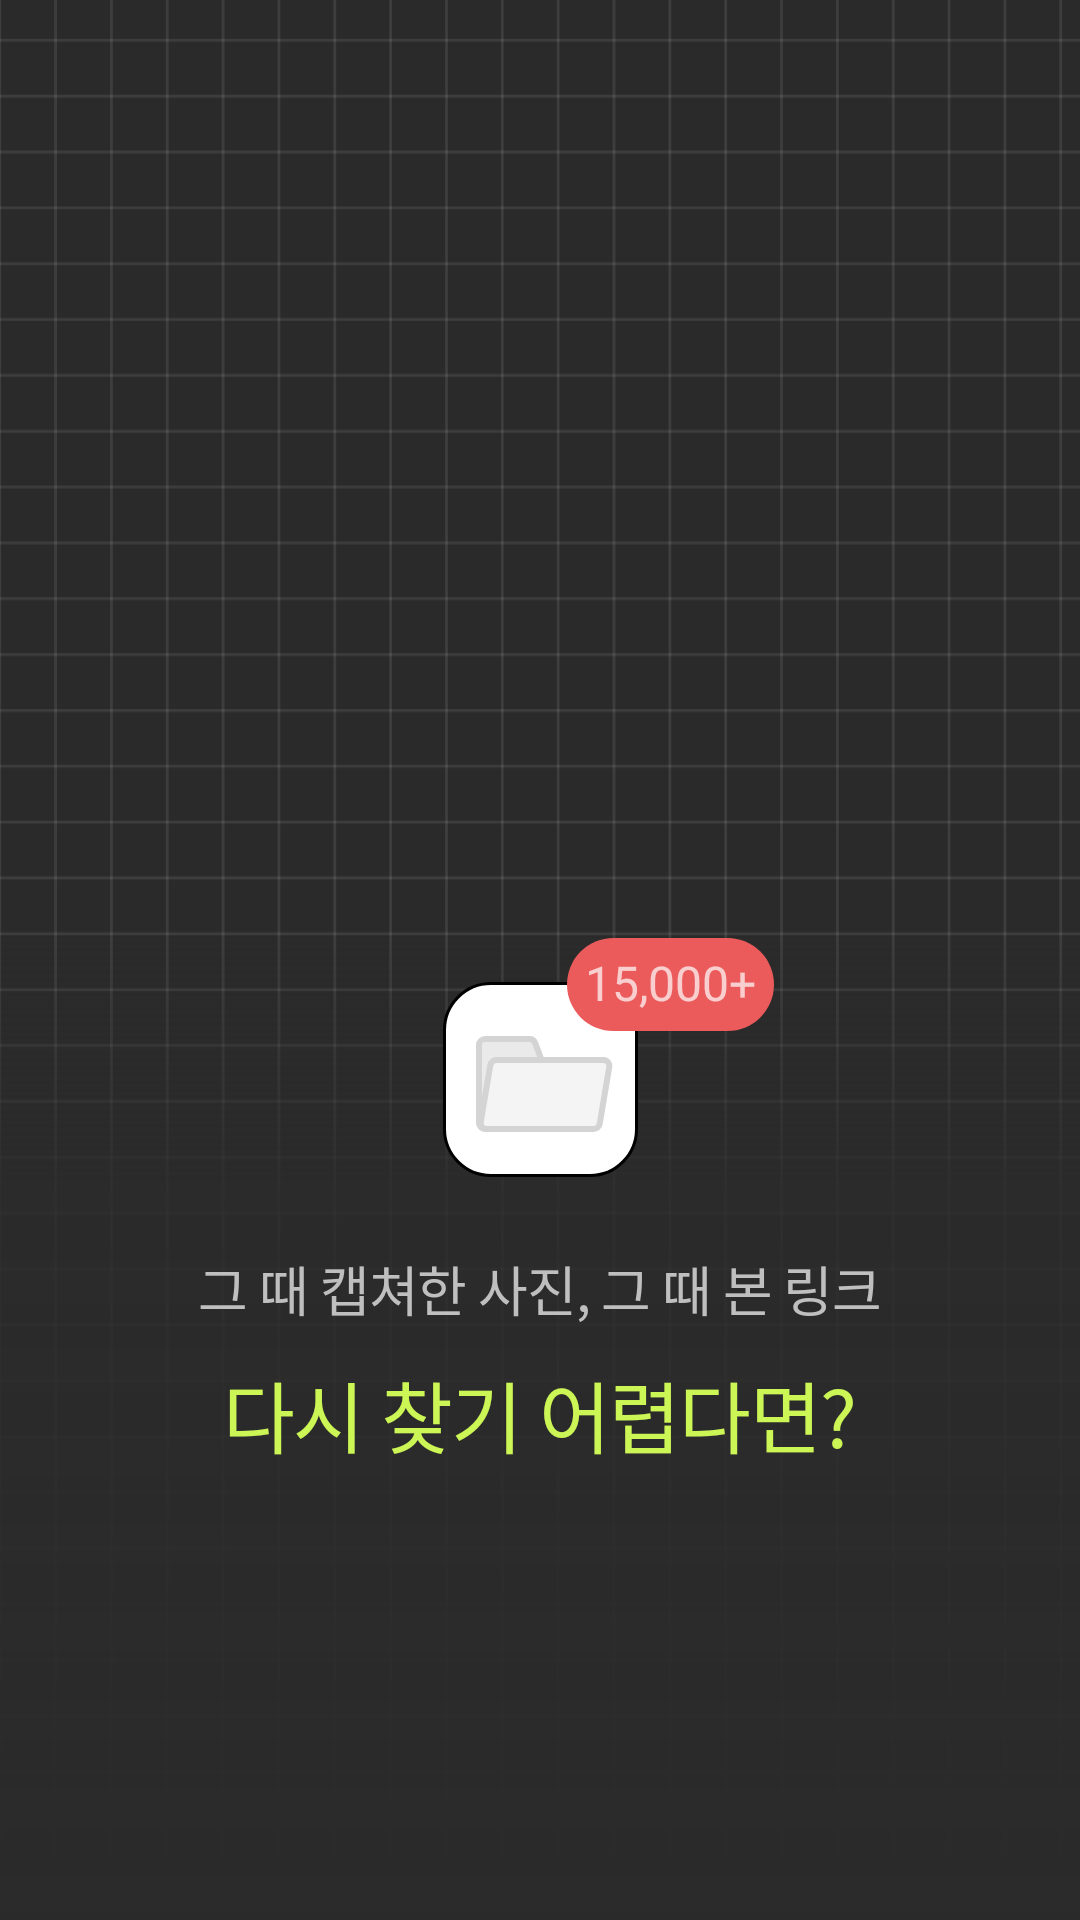

Icons on this 1080×1920 Android screen, each with the point to tap as (x,y):
folder: (540,1079)
